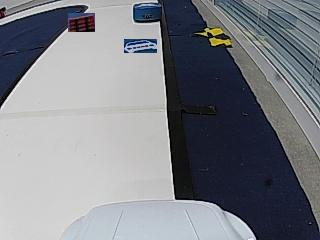prop: (133, 2, 161, 23)
